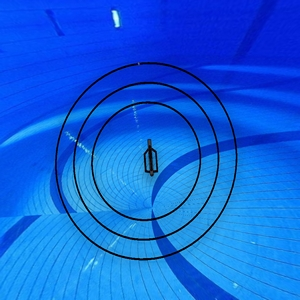circle: (54, 61, 241, 263)
submarine: (136, 134, 164, 179)
